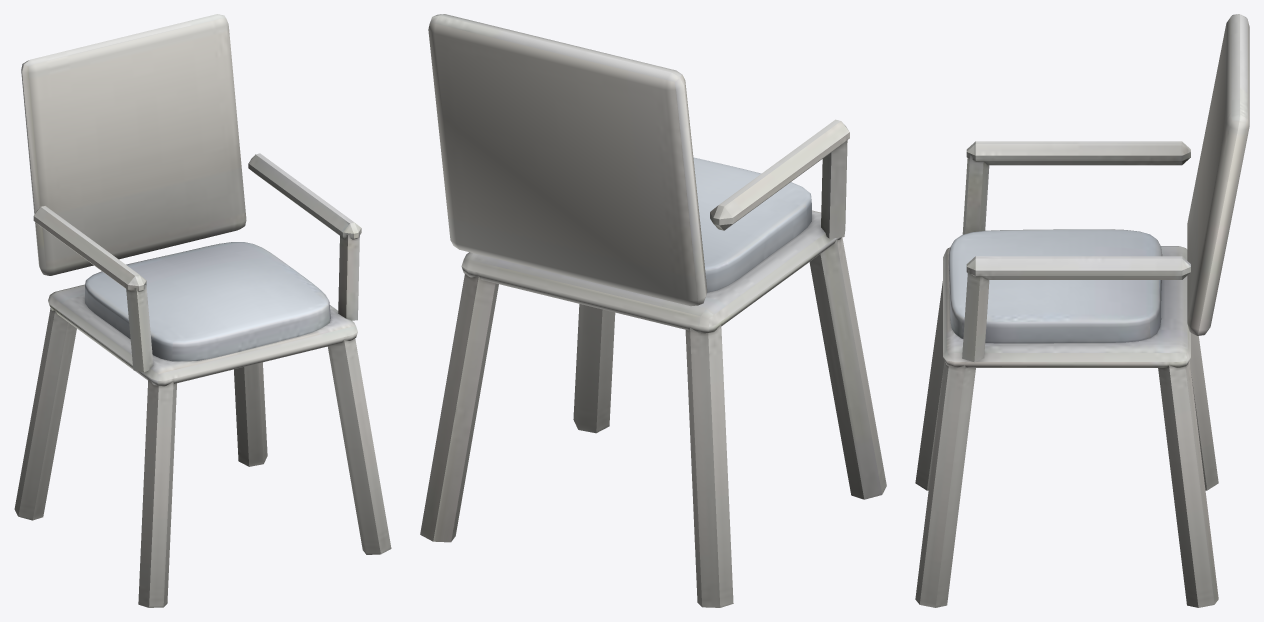
Rendered from chair_plastic.glb.
The picture shows the model from 3 angles, left to right: view 1: azimuth 30°, elevation 25°; view 2: azimuth 150°, elevation 25°; view 3: azimuth 270°, elevation 25°; orthographic projection. The views are drawn at different scales.
Parts seen in each view (by area): view 1: chair_plastic; view 2: chair_plastic; view 3: chair_plastic.
Boxes of the visible parts, x1,y1,x2,y2 form: chair_plastic: [14, 14, 391, 607]; chair_plastic: [420, 14, 886, 607]; chair_plastic: [915, 14, 1249, 607].
Size of the model in its own units: 0.5338 by 0.8982 by 0.5661.
1 material, 1 textured.
